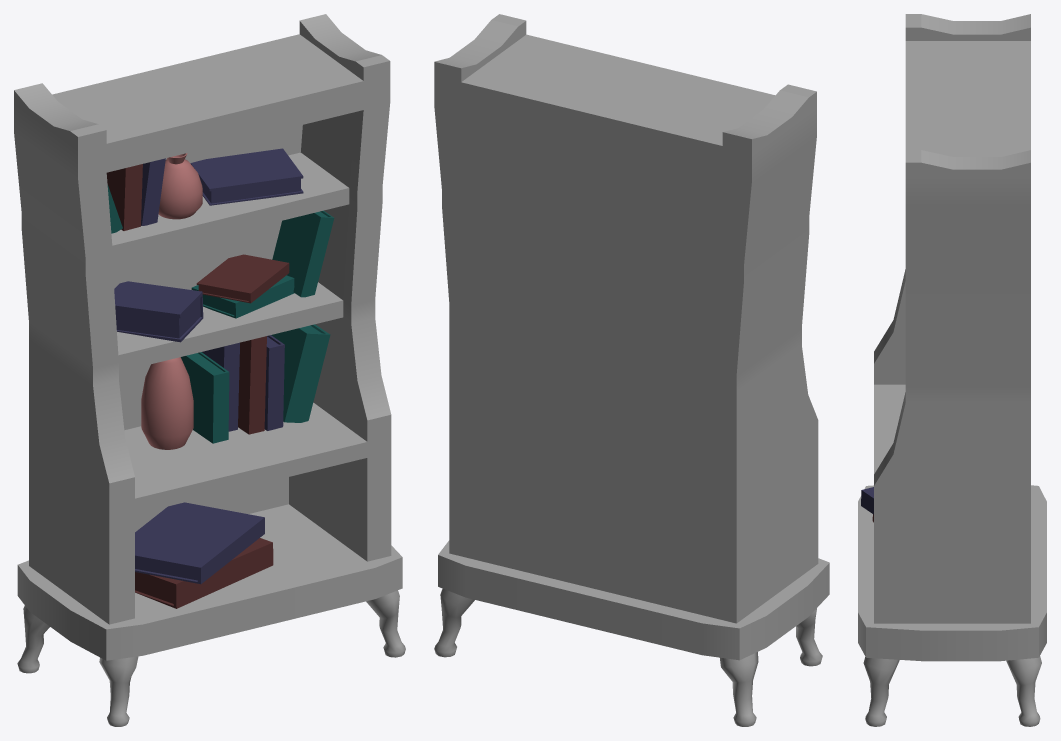
File: BookCase2.fbx
The picture shows the model from 3 angles, left to right: view 1: azimuth 30°, elevation 25°; view 2: azimuth 150°, elevation 25°; view 3: azimuth 270°, elevation 25°; orthographic projection. The views are drawn at different scales.
Visible parts, largest first — view 1: BookCase1; view 2: BookCase1; view 3: BookCase1.
Boxes of the visible parts, box(x1,y1,x2,y2) form: BookCase1: box(14, 14, 405, 726); BookCase1: box(434, 14, 829, 726); BookCase1: box(858, 14, 1046, 726).
Size of the model in its own units: 4.04 by 7.15 by 2.17.
